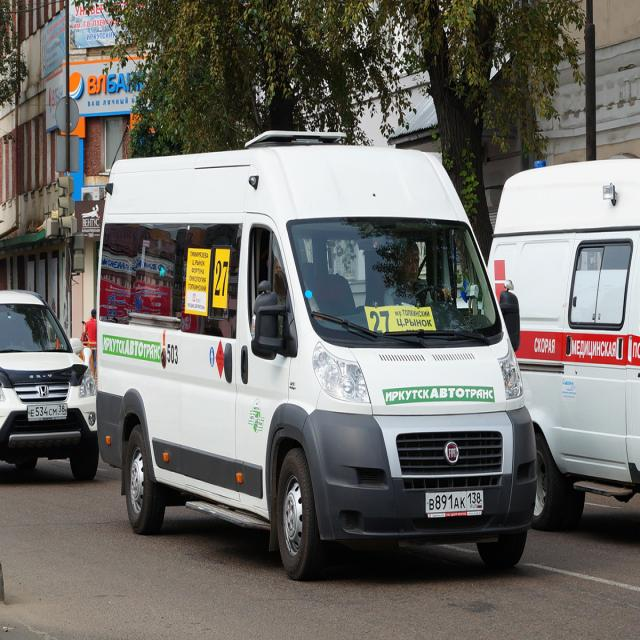number-of-bus: (368, 308, 393, 337), (215, 259, 231, 301)
